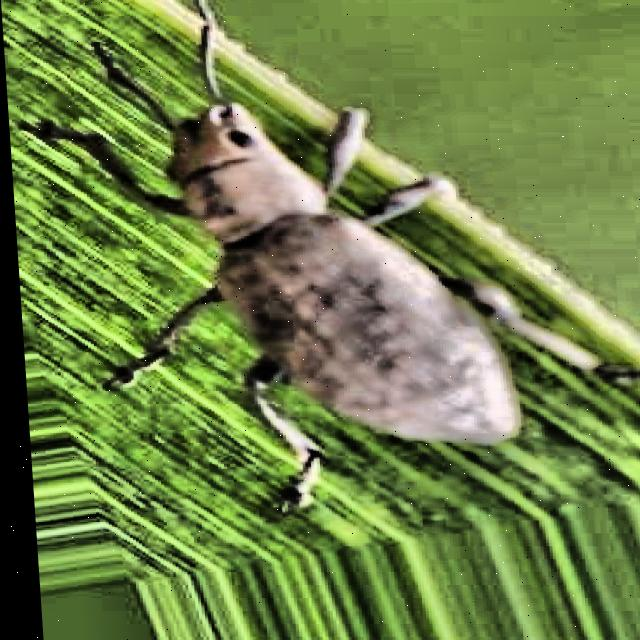Stink bug: (65, 33, 640, 483)
